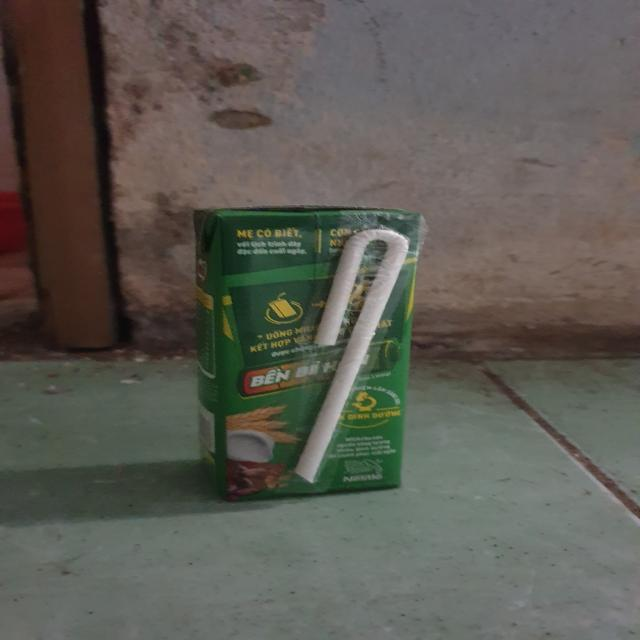Milo: (196, 203, 424, 504)
